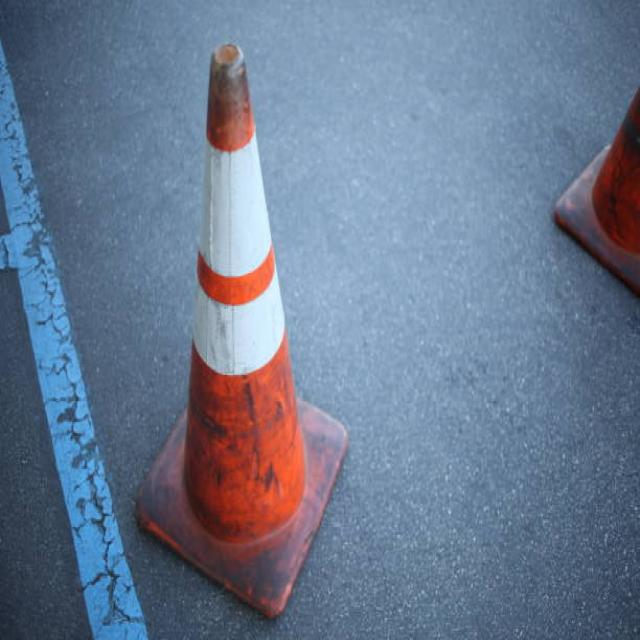Traffic Cone: (109, 12, 371, 636)
